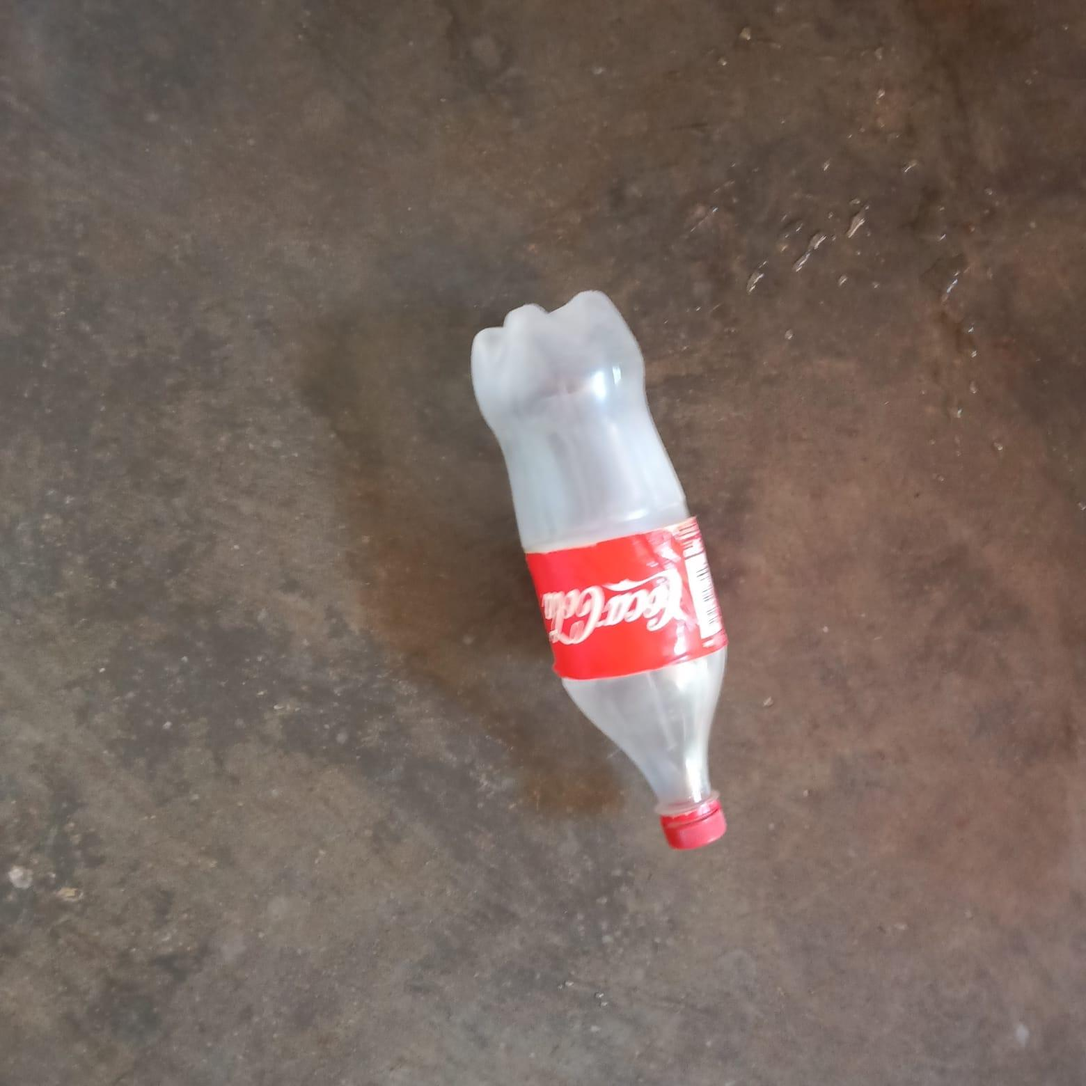Plastik: (469, 289, 730, 856)
